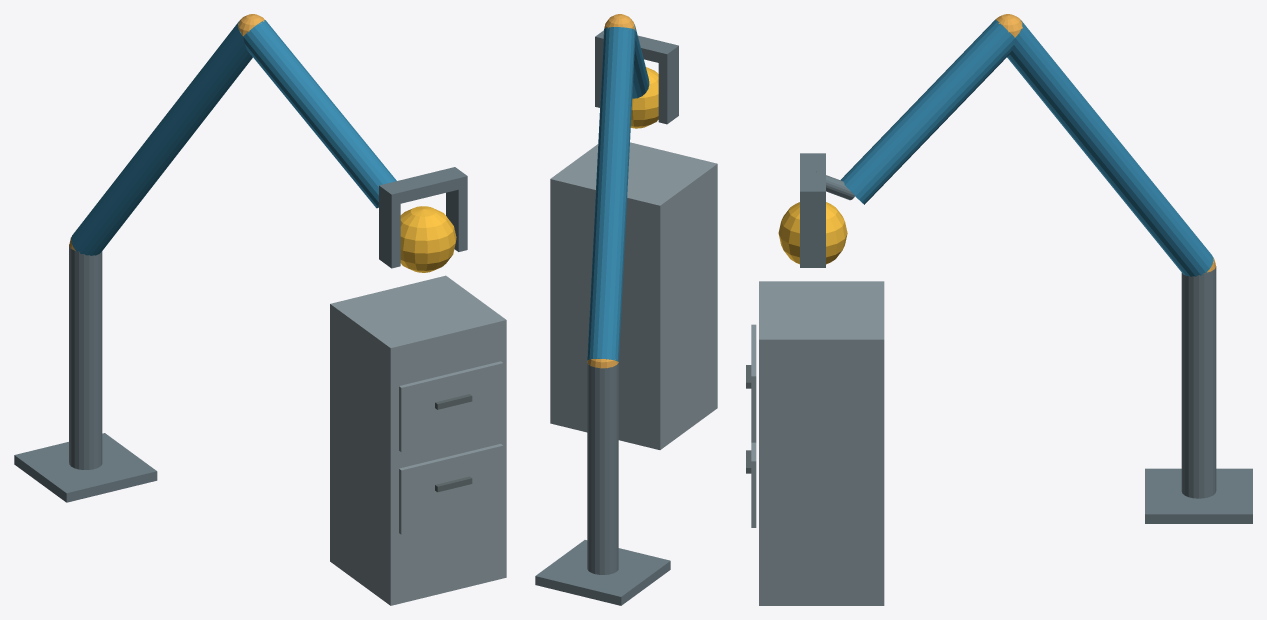
3 renders of one model, left to right at view 1: azimuth 30°, elevation 25°; view 2: azimuth 150°, elevation 25°; view 3: azimuth 270°, elevation 25°, orthographic. The views are drawn at different scales.
Visible parts, largest first — view 1: cabinet_1 body, moving link 1, fixed post, moving link 2, cabinet_1 drawer front.001, cabinet_1 drawer front, pedestal, ball ball_1, gripper bridge, gripper finger -1, gripper finger 1; view 2: cabinet_1 body, moving link 1, fixed post, pedestal, gripper finger -1, ball ball_1, gripper bridge, moving link 2, gripper finger 1, joint 2; view 3: cabinet_1 body, moving link 1, fixed post, moving link 2, pedestal, ball ball_1, gripper finger 1, gripper bridge, cabinet_1 drawer front.001.
Part boxes in pixels (<box>): cabinet_1 body: <box>330,275,506,605</box>; moving link 1: <box>71,20,252,255</box>; fixed post: <box>69,244,102,469</box>; moving link 2: <box>243,20,396,208</box>; cabinet_1 drawer front.001: <box>399,361,503,452</box>; cabinet_1 drawer front: <box>399,444,503,534</box>; pedestal: <box>14,433,157,502</box>; ball ball_1: <box>400,206,456,272</box>; gripper bridge: <box>379,167,467,205</box>; gripper finger -1: <box>379,197,400,268</box>; gripper finger 1: <box>446,187,467,251</box>; cabinet_1 body: <box>550,142,717,449</box>; moving link 1: <box>587,27,635,361</box>; fixed post: <box>587,362,618,574</box>; pedestal: <box>535,540,670,605</box>; gripper finger -1: <box>658,57,678,124</box>; ball ball_1: <box>630,67,658,128</box>; gripper bridge: <box>595,30,678,64</box>; moving link 2: <box>632,24,649,98</box>; gripper finger 1: <box>595,47,602,107</box>; joint 2: <box>604,14,635,30</box>; cabinet_1 body: <box>759,281,884,605</box>; moving link 1: <box>1007,20,1213,276</box>; fixed post: <box>1181,266,1216,498</box>; moving link 2: <box>840,19,1015,204</box>; pedestal: <box>1145,468,1252,523</box>; ball ball_1: <box>778,202,847,264</box>; gripper finger 1: <box>800,203,825,267</box>; gripper bridge: <box>800,153,825,203</box>; cabinet_1 drawer front.001: <box>751,324,756,442</box>.
Size of the model in its own units: 0.6992 by 1.34 by 1.17.
